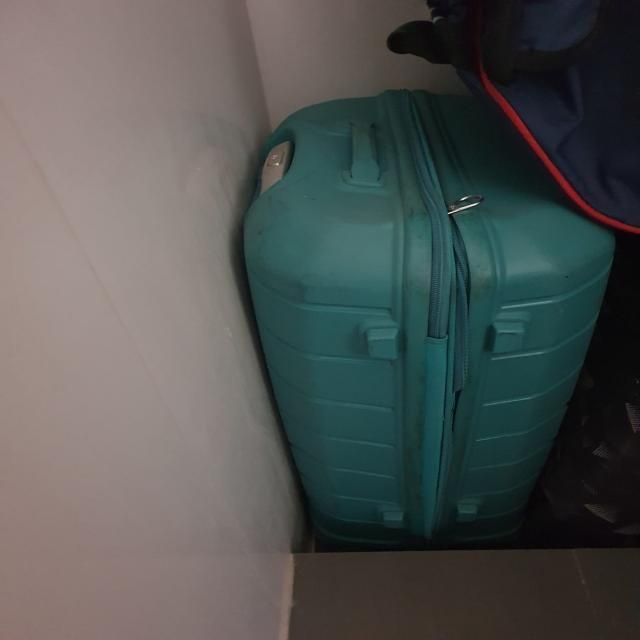Suitcase: (240, 88, 623, 549)
